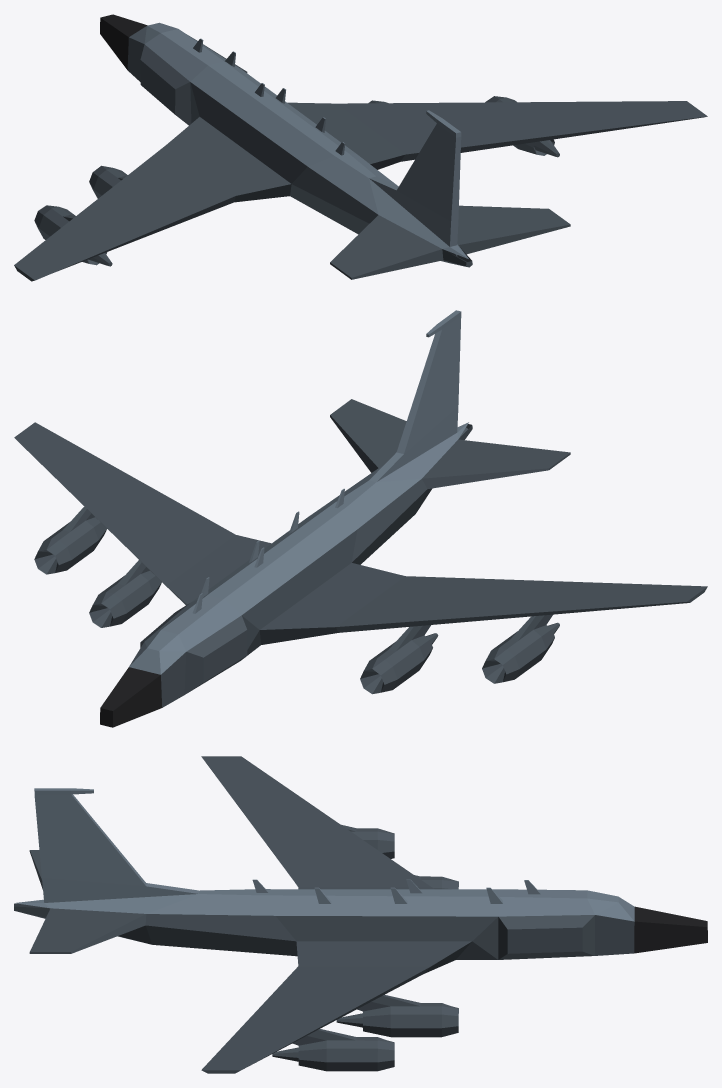
The model's file is ISR-RC135.glb.
3 views of the same model, one above another, from view 1: azimuth 30°, elevation 25°; view 2: azimuth 150°, elevation 25°; view 3: azimuth 270°, elevation 25° (orthographic). The views are drawn at different scales.
Bounding box in the file's own units: 38 × 10.37 × 35.51.
